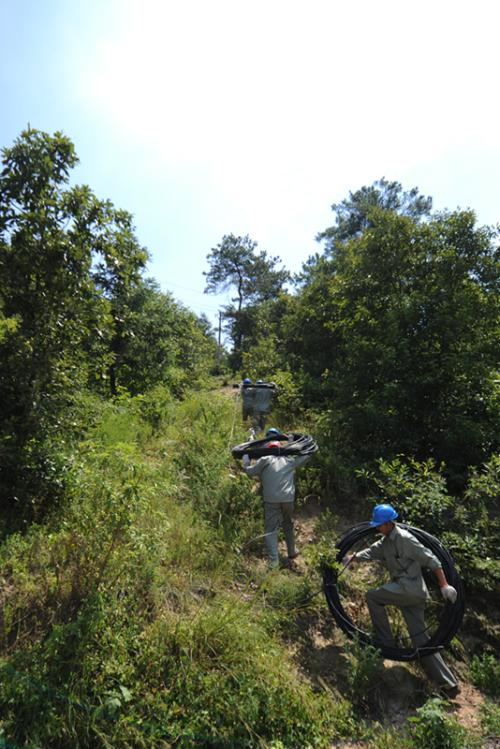gloves: (440, 585, 458, 603)
hard-hat: (369, 504, 398, 528)
person: (342, 503, 461, 698), (241, 428, 314, 569)
ppe-suit: (351, 524, 444, 652), (253, 455, 298, 555)
